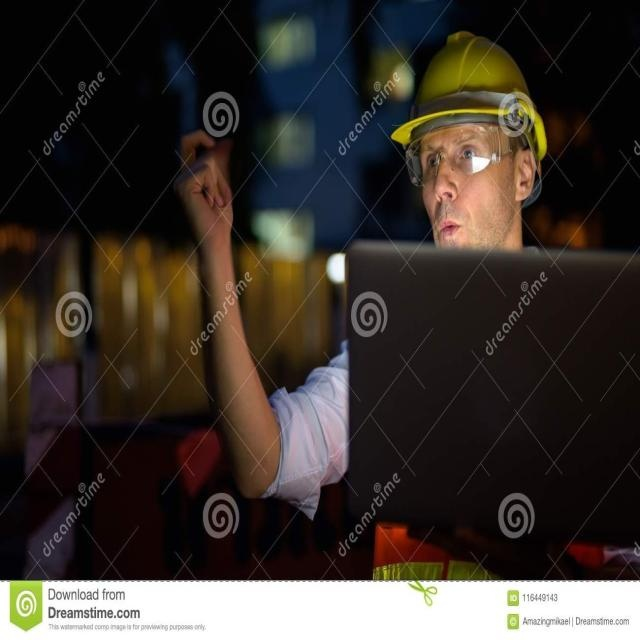Con_Casco: (394, 32, 546, 248)
